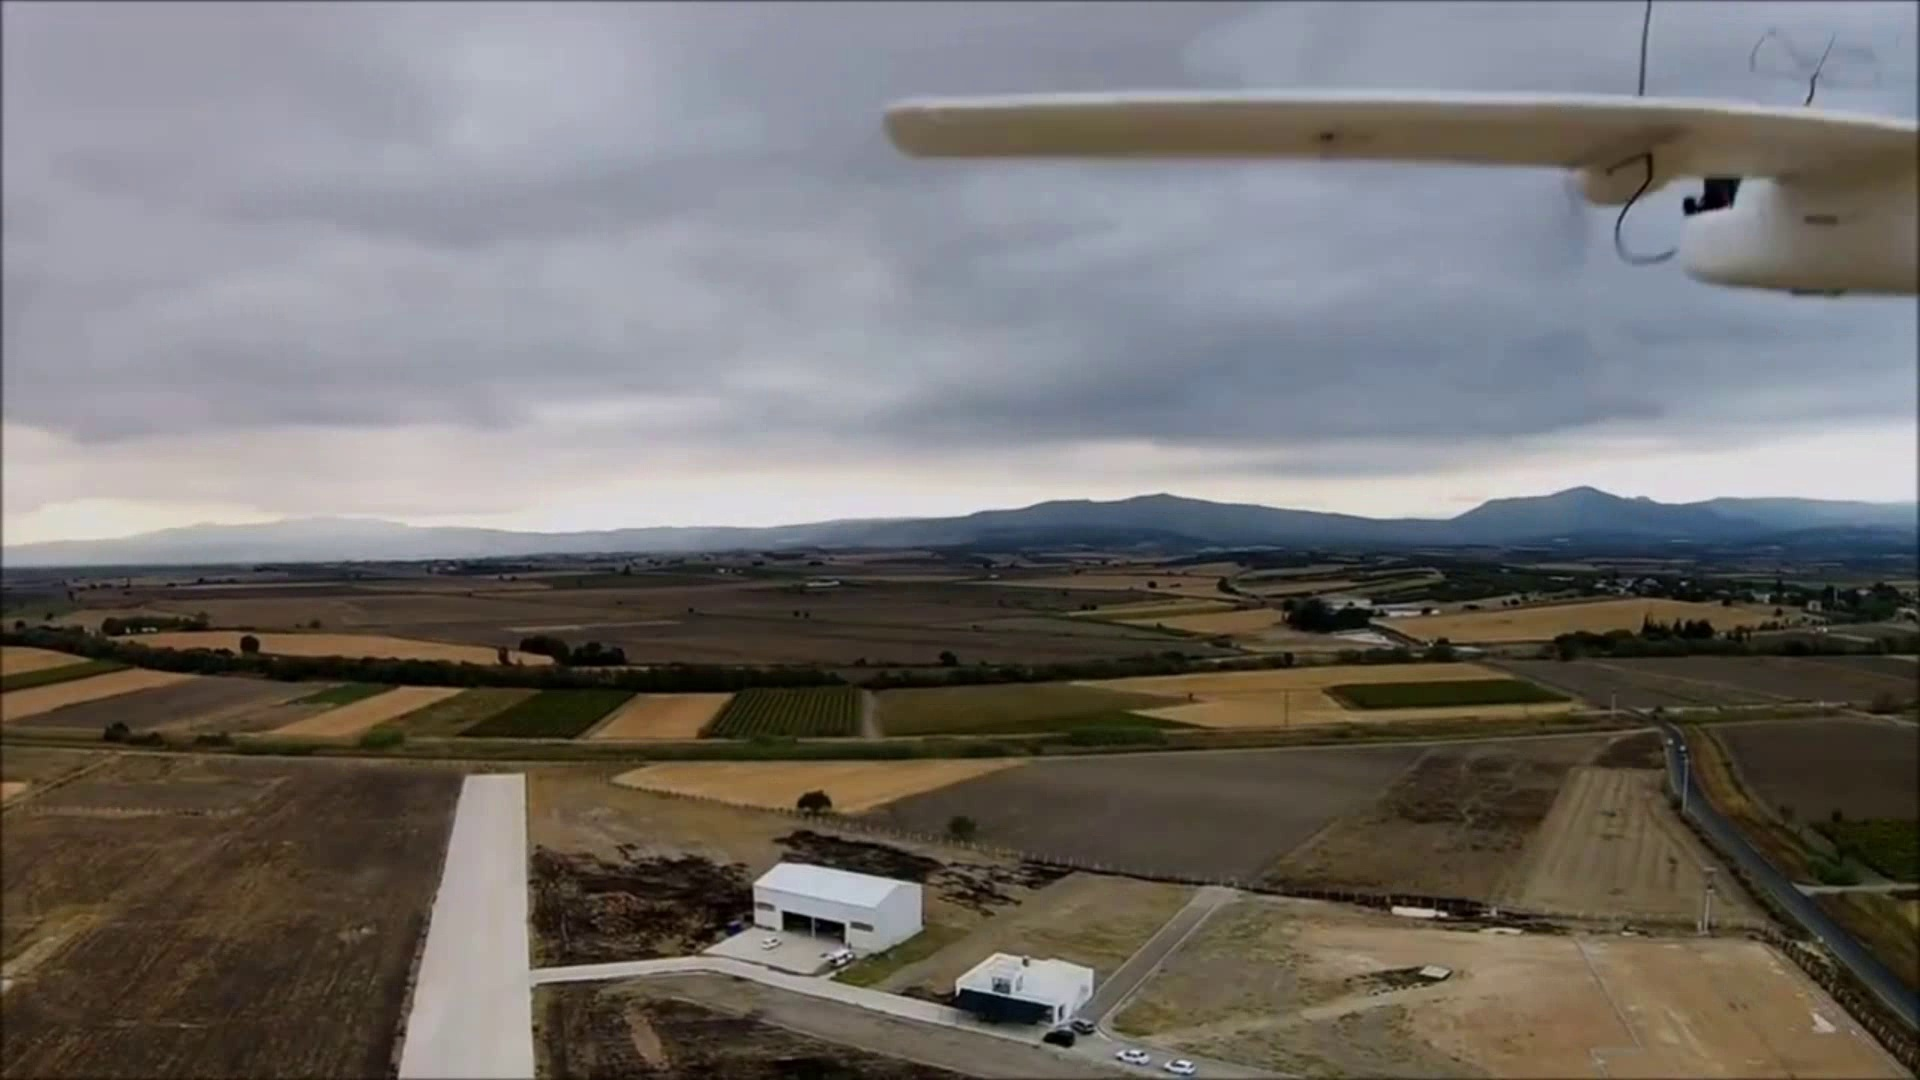airplane: (890, 7, 1916, 295)
